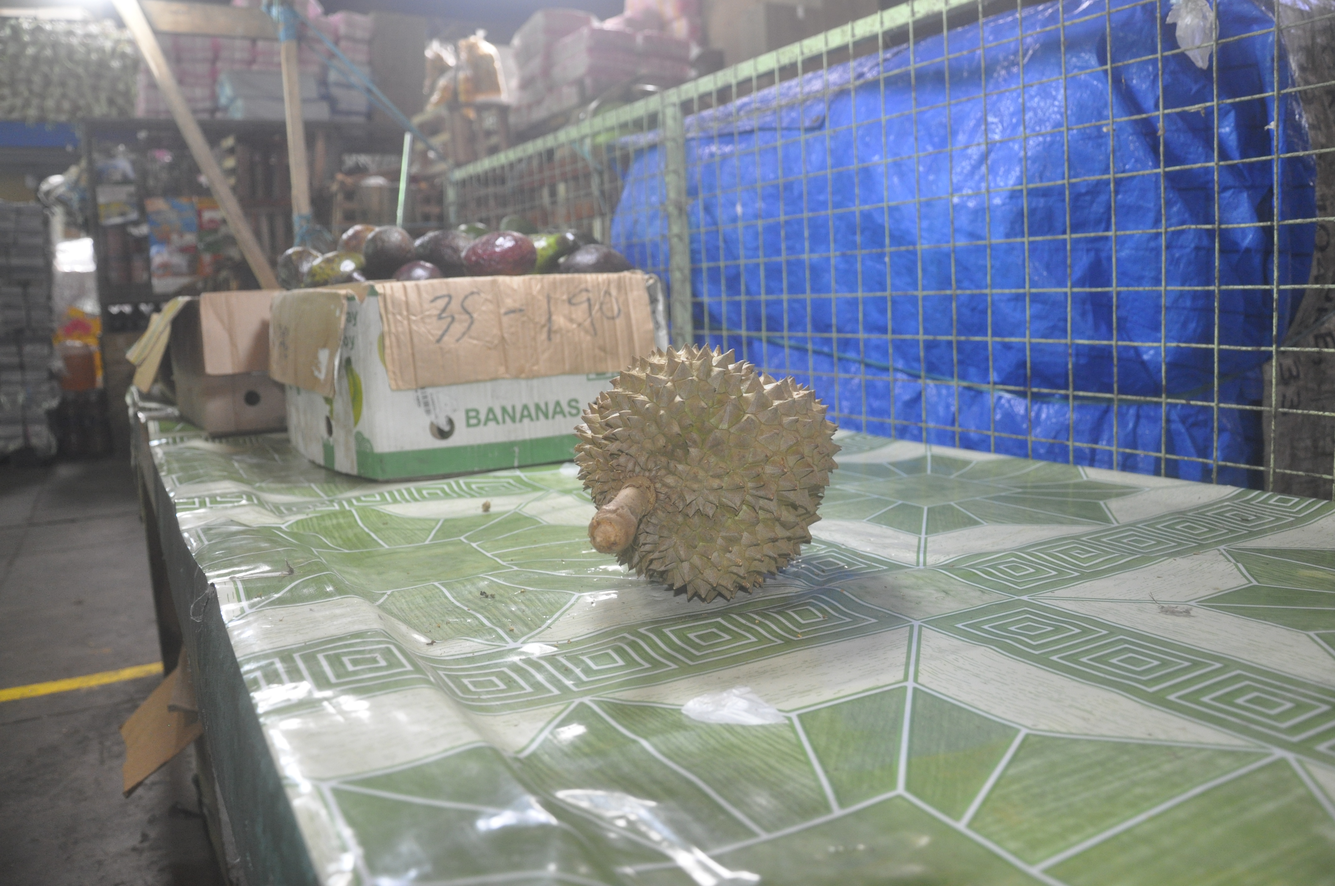mature: (574, 344, 842, 609)
